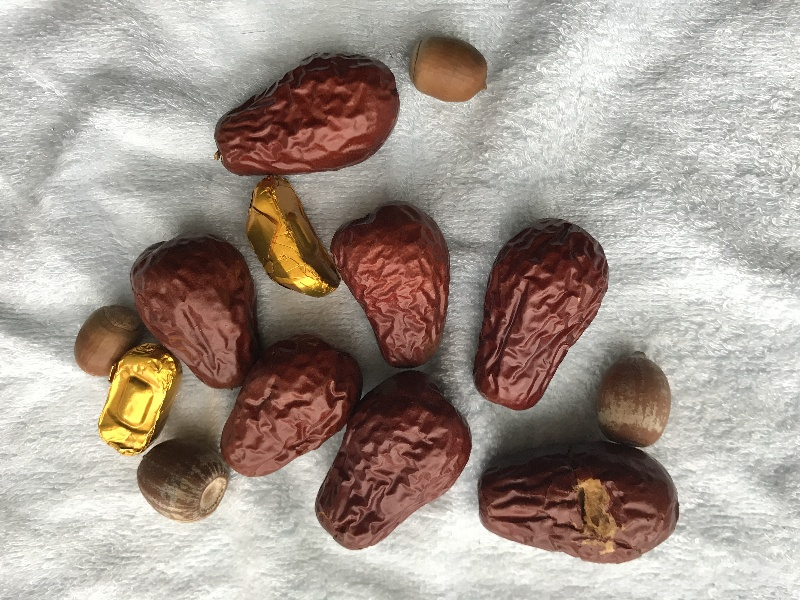date: (316, 370, 472, 553), (472, 218, 611, 413), (477, 441, 684, 567), (212, 53, 401, 179), (130, 235, 263, 389), (331, 199, 450, 368), (222, 336, 363, 478)
hazelnut: (131, 441, 231, 524), (602, 352, 677, 450), (407, 35, 494, 107), (72, 305, 145, 381)
